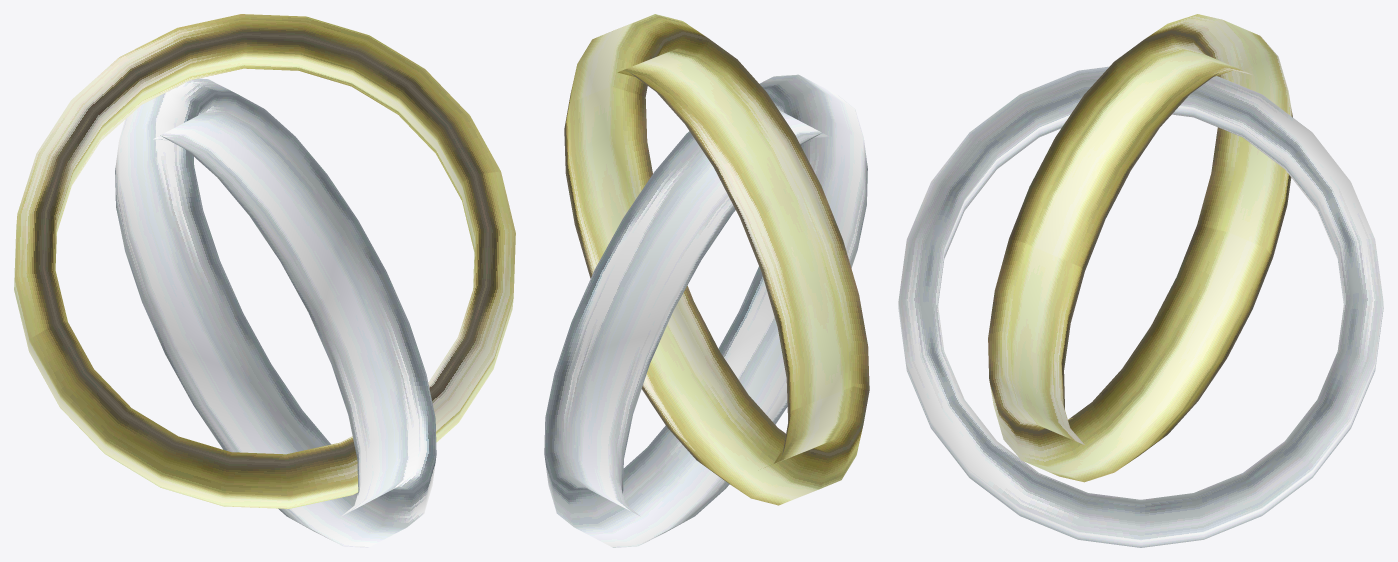
The model's file is ps2_save-icons_memoriesoff-sorekaraagain-original.glb.
3 renders of one model, left to right at view 1: azimuth 30°, elevation 25°; view 2: azimuth 150°, elevation 25°; view 3: azimuth 270°, elevation 25°, orthographic. The views are drawn at different scales.
Parts seen in each view (by area): view 1: static.ico; view 2: static.ico; view 3: static.ico.
Part boxes in pixels (x1=…): static.ico: x1=14, y1=14, x2=515, y2=547; static.ico: x1=544, y1=14, x2=869, y2=547; static.ico: x1=898, y1=14, x2=1383, y2=547.
Bounding box in the file's own units: 3.57 × 4.38 × 3.94.
1 material, 1 textured.
